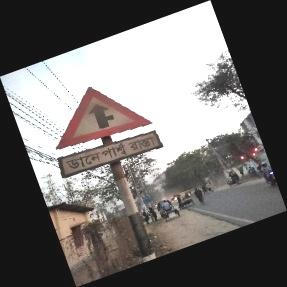Side-road-right: (55, 85, 163, 176)
